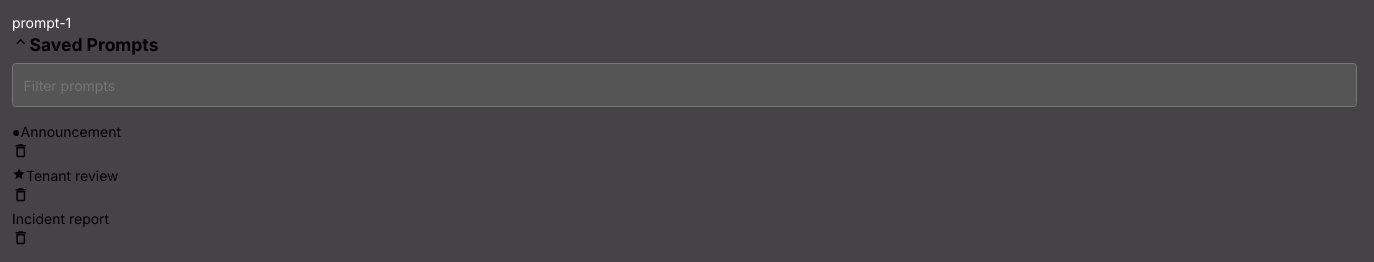
Scenario: SavedPrompts › narrows the list as the filter is typed
expect the text "Announcement" is shown: met, box x1=20 y1=123 x2=121 y2=140
Type "incident" into the field named "Filter saved prompts" at (684, 85), box x1=12 y1=63 x2=1357 y2=107
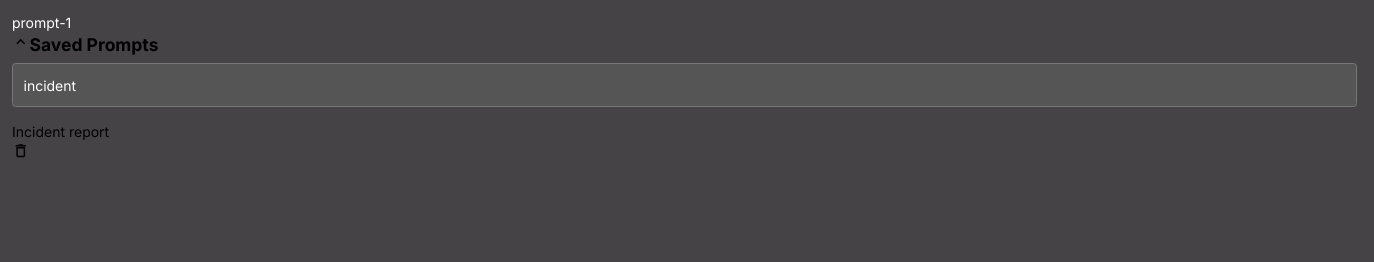
expect the text "Incident report" is shown: met, box x1=12 y1=123 x2=109 y2=140
expect the button "Announcement" is gone: met
expect the button "Tenant review" is gone: met
